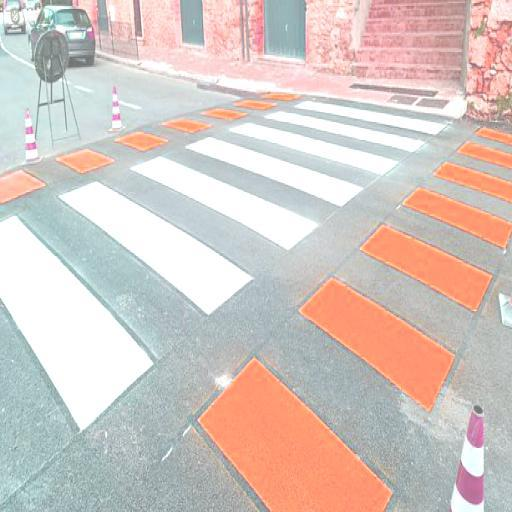crosswalk: (50, 144, 328, 330)
